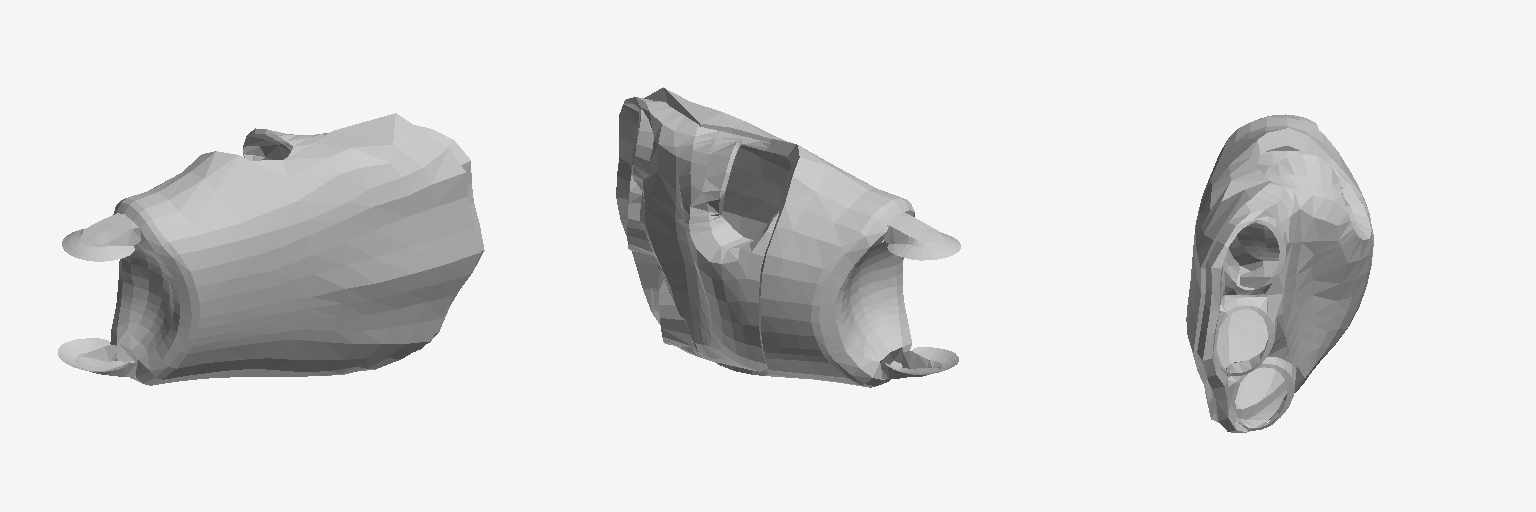
Rendered from RWristPitch.obj.
The picture shows the model from 3 angles: view 1: azimuth 30°, elevation 25°; view 2: azimuth 150°, elevation 25°; view 3: azimuth 270°, elevation 25°; orthographic projection.
Visible parts, largest first — view 1: RWristPitch_RWristPitch; view 2: RWristPitch_RWristPitch; view 3: RWristPitch_RWristPitch.
Boxes of the visible parts, x1,y1,x2,y2 form: RWristPitch_RWristPitch: [58, 113, 484, 385]; RWristPitch_RWristPitch: [616, 87, 960, 387]; RWristPitch_RWristPitch: [1186, 114, 1373, 432].
Bounding box in the file's own units: 0.1538 × 0.0974 × 0.0657.